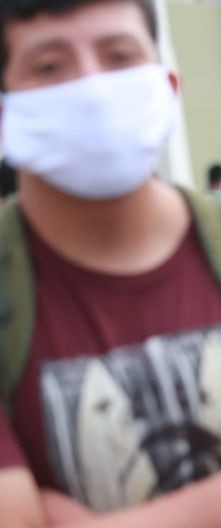with_mask: (3, 6, 192, 209)
